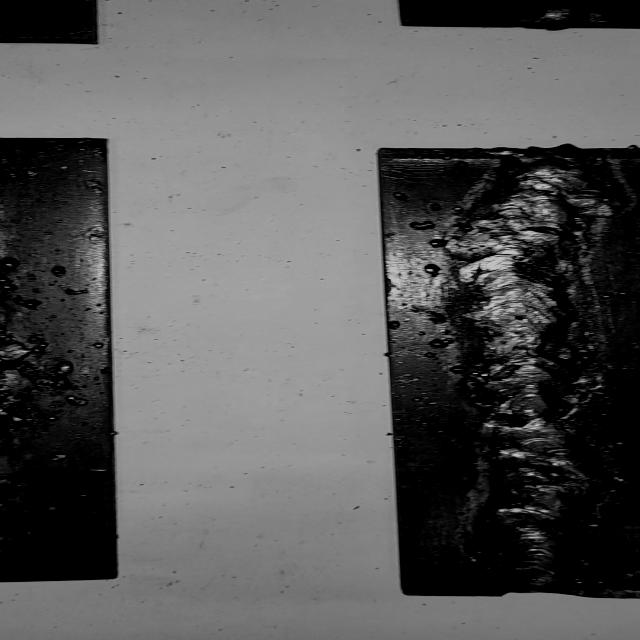Bad Weld: (452, 156, 617, 586)
Defect: (433, 151, 631, 595), (0, 328, 85, 434)
